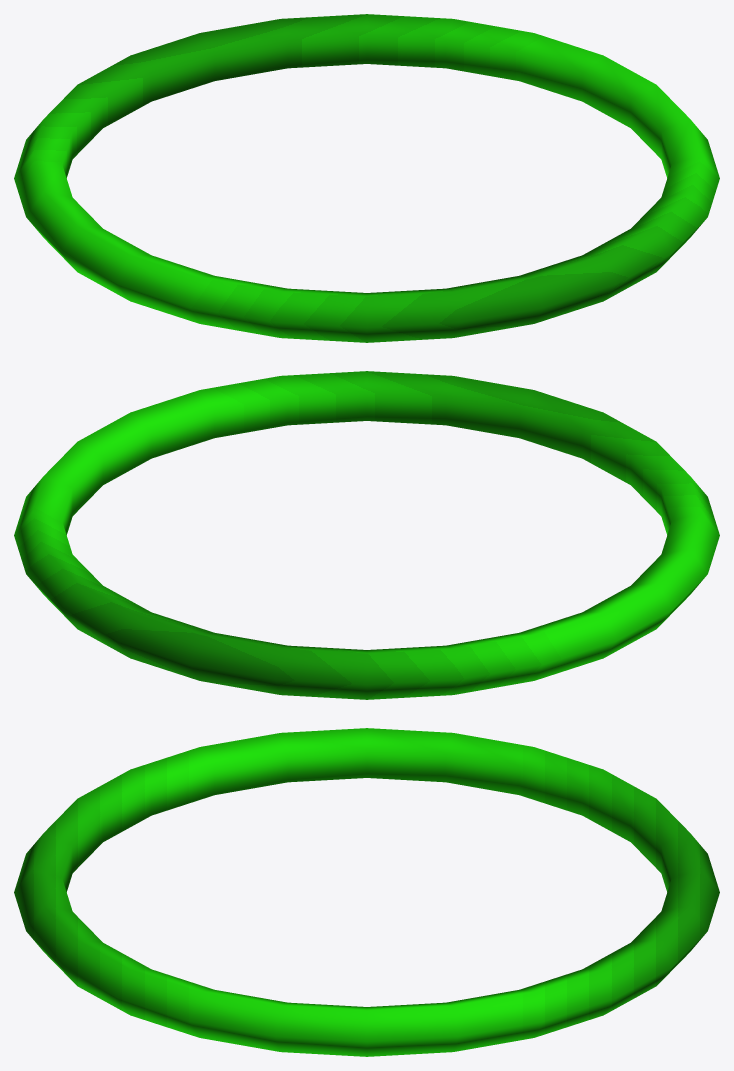
File: MarkerRing.FBX
The picture shows the model from 3 angles, top to bottom: view 1: azimuth 30°, elevation 25°; view 2: azimuth 150°, elevation 25°; view 3: azimuth 270°, elevation 25°; orthographic projection.
Visible parts, largest first — view 1: Torus001; view 2: Torus001; view 3: Torus001.
Boxes of the visible parts, x1=… form: Torus001: x1=14, y1=14, x2=719, y2=342; Torus001: x1=14, y1=371, x2=719, y2=699; Torus001: x1=14, y1=728, x2=719, y2=1056.
Size of the model in its own units: 66.56 by 4.79 by 66.56.
